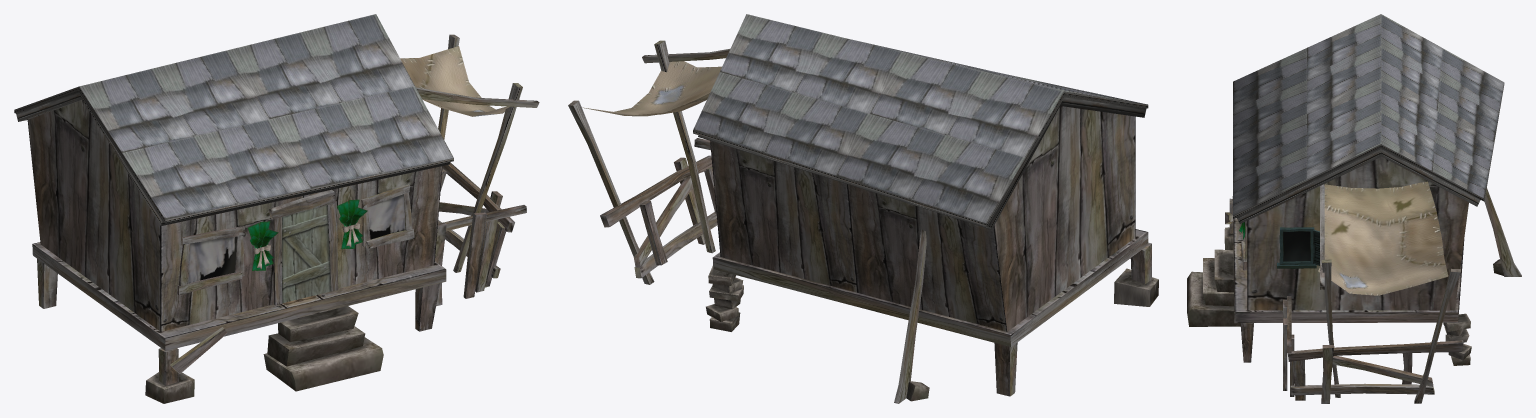
The model's file is shanty_npc_house_a_exterior.fbx.
3 views of the same model, side by side, from view 1: azimuth 30°, elevation 25°; view 2: azimuth 150°, elevation 25°; view 3: azimuth 270°, elevation 25° (orthographic). The views are drawn at different scales.
Parts seen in each view (by area): view 1: house_geo, platform, doors, stair1, canvas, stair2, curtain1, stair3, woodsupport1, group1, fence_post5, atone (+17 smaller); view 2: house_geo, platform, canvas, wood_support, woodsupport1, woodsupport, fence_horiz1, atone, support1, fence_diag1, fence_horiz2, fence_post1 (+3 smaller); view 3: house_geo, canvas, platform, fence_horiz1, stair1, fence_horiz2, woodsupport, wood_support, fence_diag1, stair2, Glass, stair3 (+8 smaller).
Part boxes in pixels (x1=…): house_geo: x1=14, y1=14, x2=453, y2=331; platform: x1=32, y1=242, x2=446, y2=350; doors: x1=282, y1=205, x2=330, y2=303; stair1: x1=263, y1=337, x2=383, y2=391; canvas: x1=400, y1=46, x2=516, y2=116; stair2: x1=267, y1=326, x2=365, y2=366; curtain1: x1=188, y1=236, x2=236, y2=283; stair3: x1=278, y1=306, x2=358, y2=341; woodsupport1: x1=453, y1=83, x2=522, y2=272; group1: x1=368, y1=194, x2=405, y2=239; fence_post5: x1=463, y1=212, x2=486, y2=298; atone: x1=145, y1=372, x2=194, y2=403; house_geo: x1=693, y1=14, x2=1148, y2=331; platform: x1=712, y1=229, x2=1148, y2=346; canvas: x1=582, y1=61, x2=721, y2=116; wood_support: x1=894, y1=229, x2=926, y2=403; woodsupport1: x1=654, y1=40, x2=715, y2=253; woodsupport: x1=568, y1=100, x2=654, y2=284; fence_horiz1: x1=600, y1=155, x2=712, y2=227; atone: x1=1114, y1=268, x2=1158, y2=306; support1: x1=994, y1=342, x2=1017, y2=396; fence_diag1: x1=634, y1=177, x2=693, y2=267; fence_horiz2: x1=634, y1=212, x2=717, y2=278; fence_post1: x1=639, y1=201, x2=667, y2=265; house_geo: x1=1233, y1=14, x2=1504, y2=310; canvas: x1=1318, y1=181, x2=1448, y2=295; platform: x1=1232, y1=196, x2=1464, y2=323; fence_horiz1: x1=1288, y1=340, x2=1463, y2=361; stair1: x1=1187, y1=271, x2=1240, y2=326; fence_horiz2: x1=1290, y1=383, x2=1434, y2=395; woodsupport: x1=1414, y1=268, x2=1460, y2=403; wood_support: x1=1484, y1=187, x2=1521, y2=276; fence_diag1: x1=1332, y1=356, x2=1433, y2=386; stair2: x1=1203, y1=258, x2=1233, y2=306; Glass: x1=1283, y1=231, x2=1310, y2=261; stair3: x1=1214, y1=249, x2=1233, y2=292.
Bounding box in the file's own units: 3712 × 2075 × 2764.
4 materials, 4 textured.
